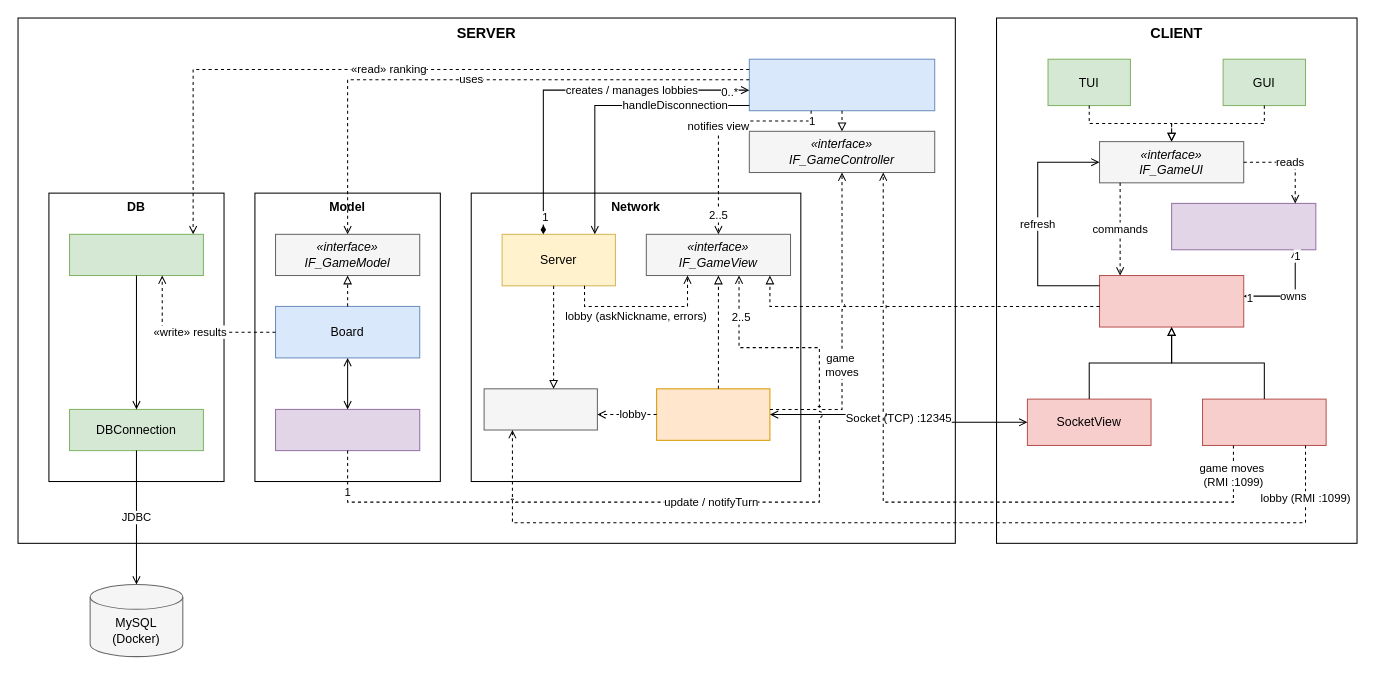
This 1375x675 diagram has some shape labels left out. Each missing label, with the centre of its shape:
"Controller" goes at point 841,84.
"GameManager" goes at point 347,429.
"GameResultsDAO" goes at point 135,254.
"RMIView" goes at point 1263,421.
"SocketProxy" goes at point 713,414.
"ViewModel" goes at point 1243,226.
"VirtualView {abstract}" goes at point 1171,300.
"«interface» IF_Server" goes at point 540,409.
